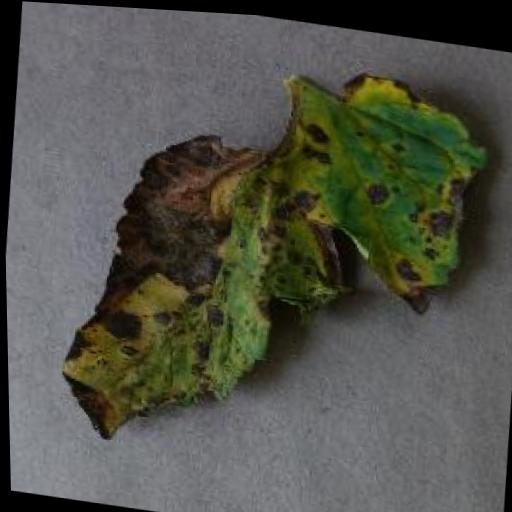Early Blight: (46, 22, 490, 495)
